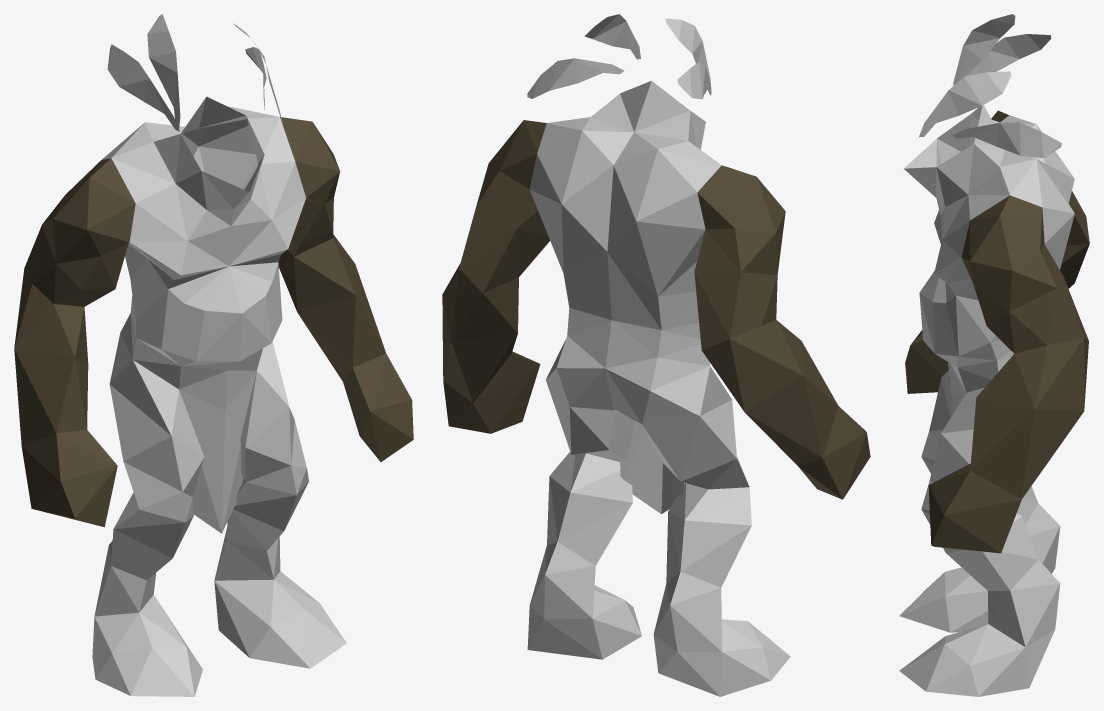
File: ORC_BODYSHAMAN.OBJ
3 renders of one model, left to right at view 1: azimuth 30°, elevation 25°; view 2: azimuth 150°, elevation 25°; view 3: azimuth 270°, elevation 25°, orthographic. The views are drawn at different scales.
Parts seen in each view (by area): view 1: ORC_BODYSHAMAN; view 2: ORC_BODYSHAMAN; view 3: ORC_BODYSHAMAN.
Boxes of the visible parts, x1,y1,x2,y2 form: ORC_BODYSHAMAN: [14, 14, 413, 696]; ORC_BODYSHAMAN: [442, 14, 870, 696]; ORC_BODYSHAMAN: [899, 14, 1089, 696].
Size of the model in its own units: 1.44 by 2.38 by 0.6692.
